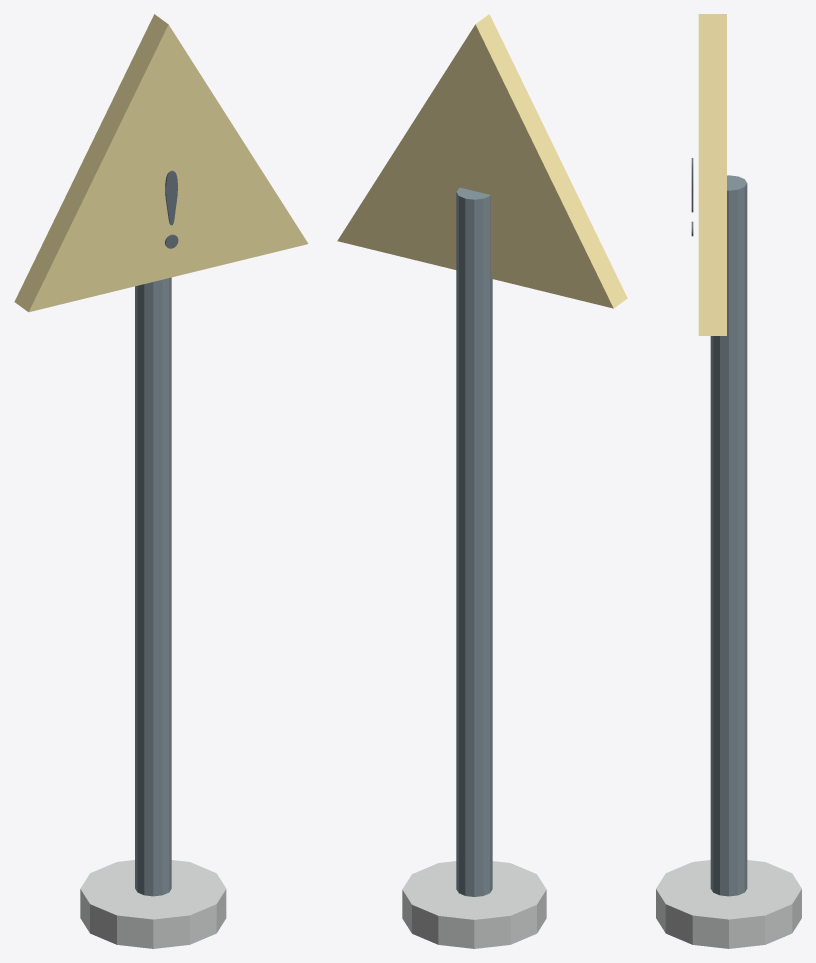
The model's file is warning.glb.
3 views of the same model, side by side, from view 1: azimuth 30°, elevation 25°; view 2: azimuth 150°, elevation 25°; view 3: azimuth 270°, elevation 25° (orthographic).
Visible parts, largest first — view 1: warning_002, warning_000, warning_001, warning_003; view 2: warning_002, warning_000, warning_001; view 3: warning_000, warning_001, warning_002.
Boxes of the visible parts, bbox=[...] form: warning_002: bbox=[14, 14, 308, 312]; warning_000: bbox=[135, 277, 171, 896]; warning_001: bbox=[80, 860, 226, 948]; warning_003: bbox=[165, 170, 178, 248]; warning_002: bbox=[337, 14, 627, 308]; warning_000: bbox=[456, 187, 492, 896]; warning_001: bbox=[402, 861, 546, 948]; warning_000: bbox=[710, 175, 747, 896]; warning_001: bbox=[656, 860, 801, 948]; warning_002: bbox=[698, 14, 726, 335].
Bounding box in the file's own units: 0.7967 × 2.46 × 0.36.
